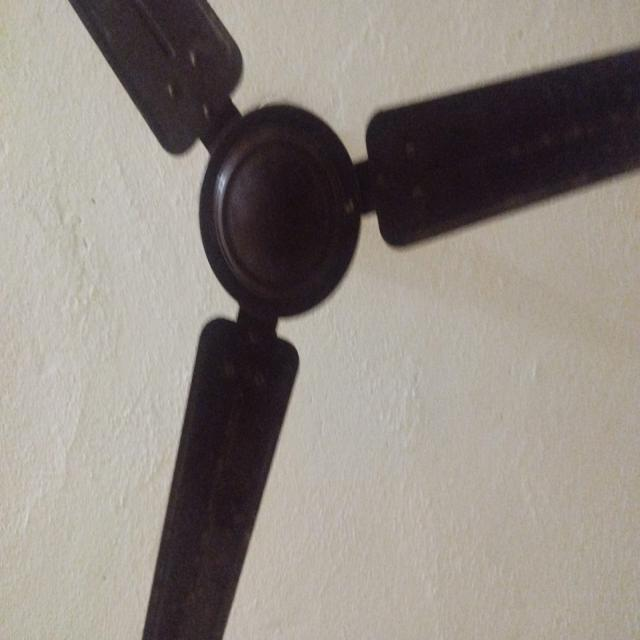fan_off: (70, 0, 640, 640)
